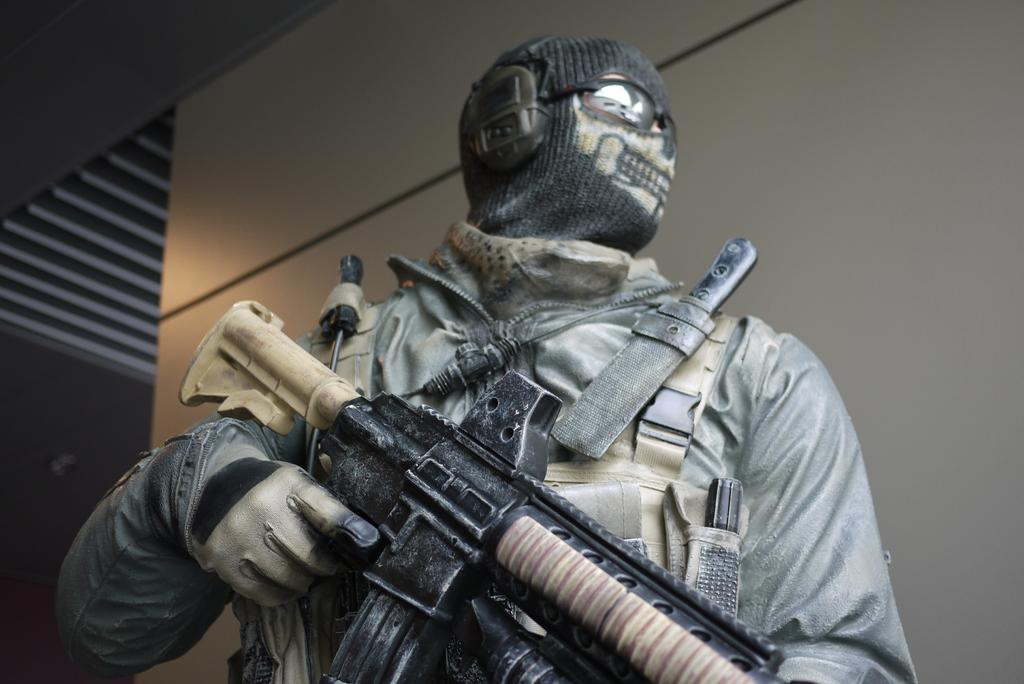Rifle: (125, 318, 762, 651)
